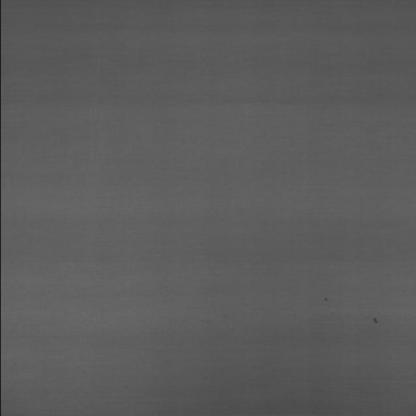inclusion: (311, 293, 339, 307), (368, 312, 386, 326)
